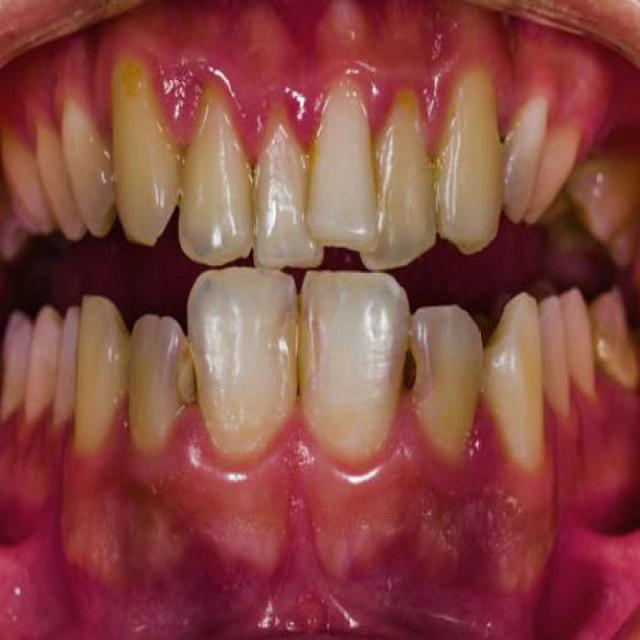caries: (272, 307, 328, 397), (166, 336, 224, 406), (387, 337, 426, 398)
